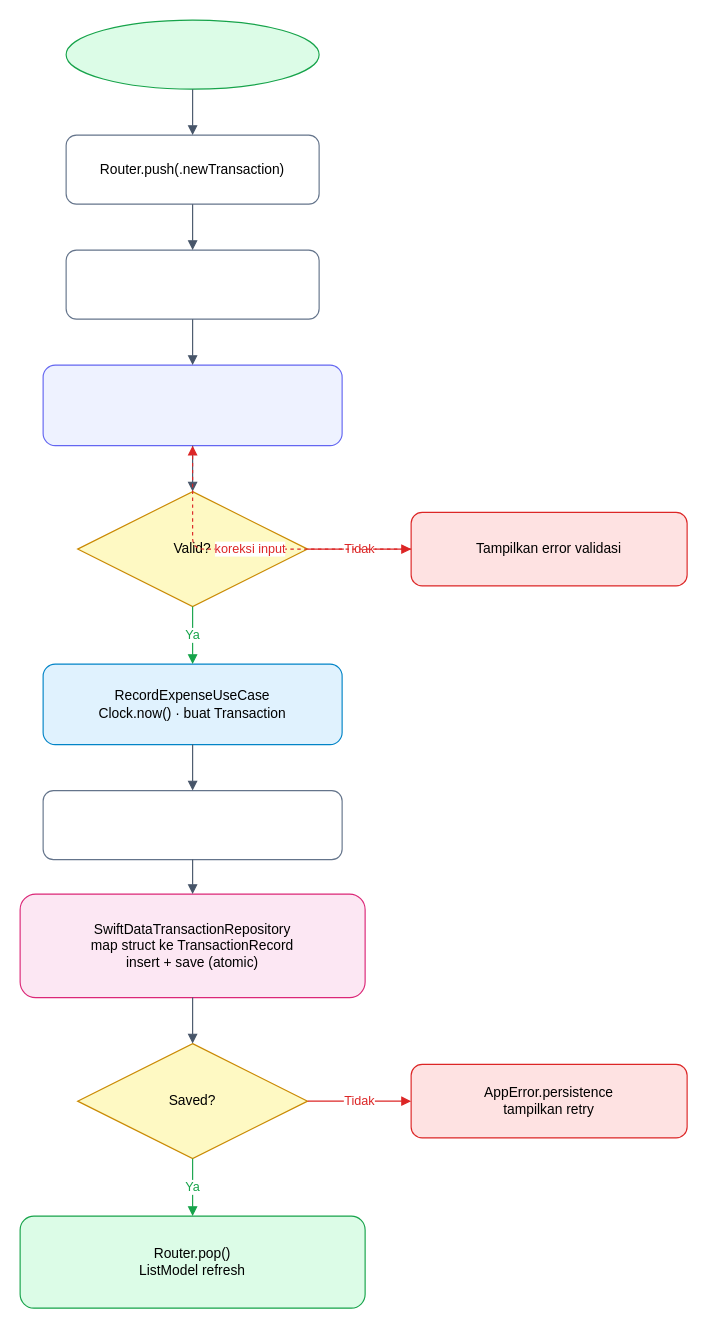
Image size: 707x1328. Some labels were removed from this diagram. Each missing label, with the centre of its shape:
AddTransactionModel MoneyParser · validasi input: the point at 192,405
AddTransactionView: the point at 192,284
TransactionRepository (protocol di Domain): the point at 192,824
User tap +: the point at 192,54
